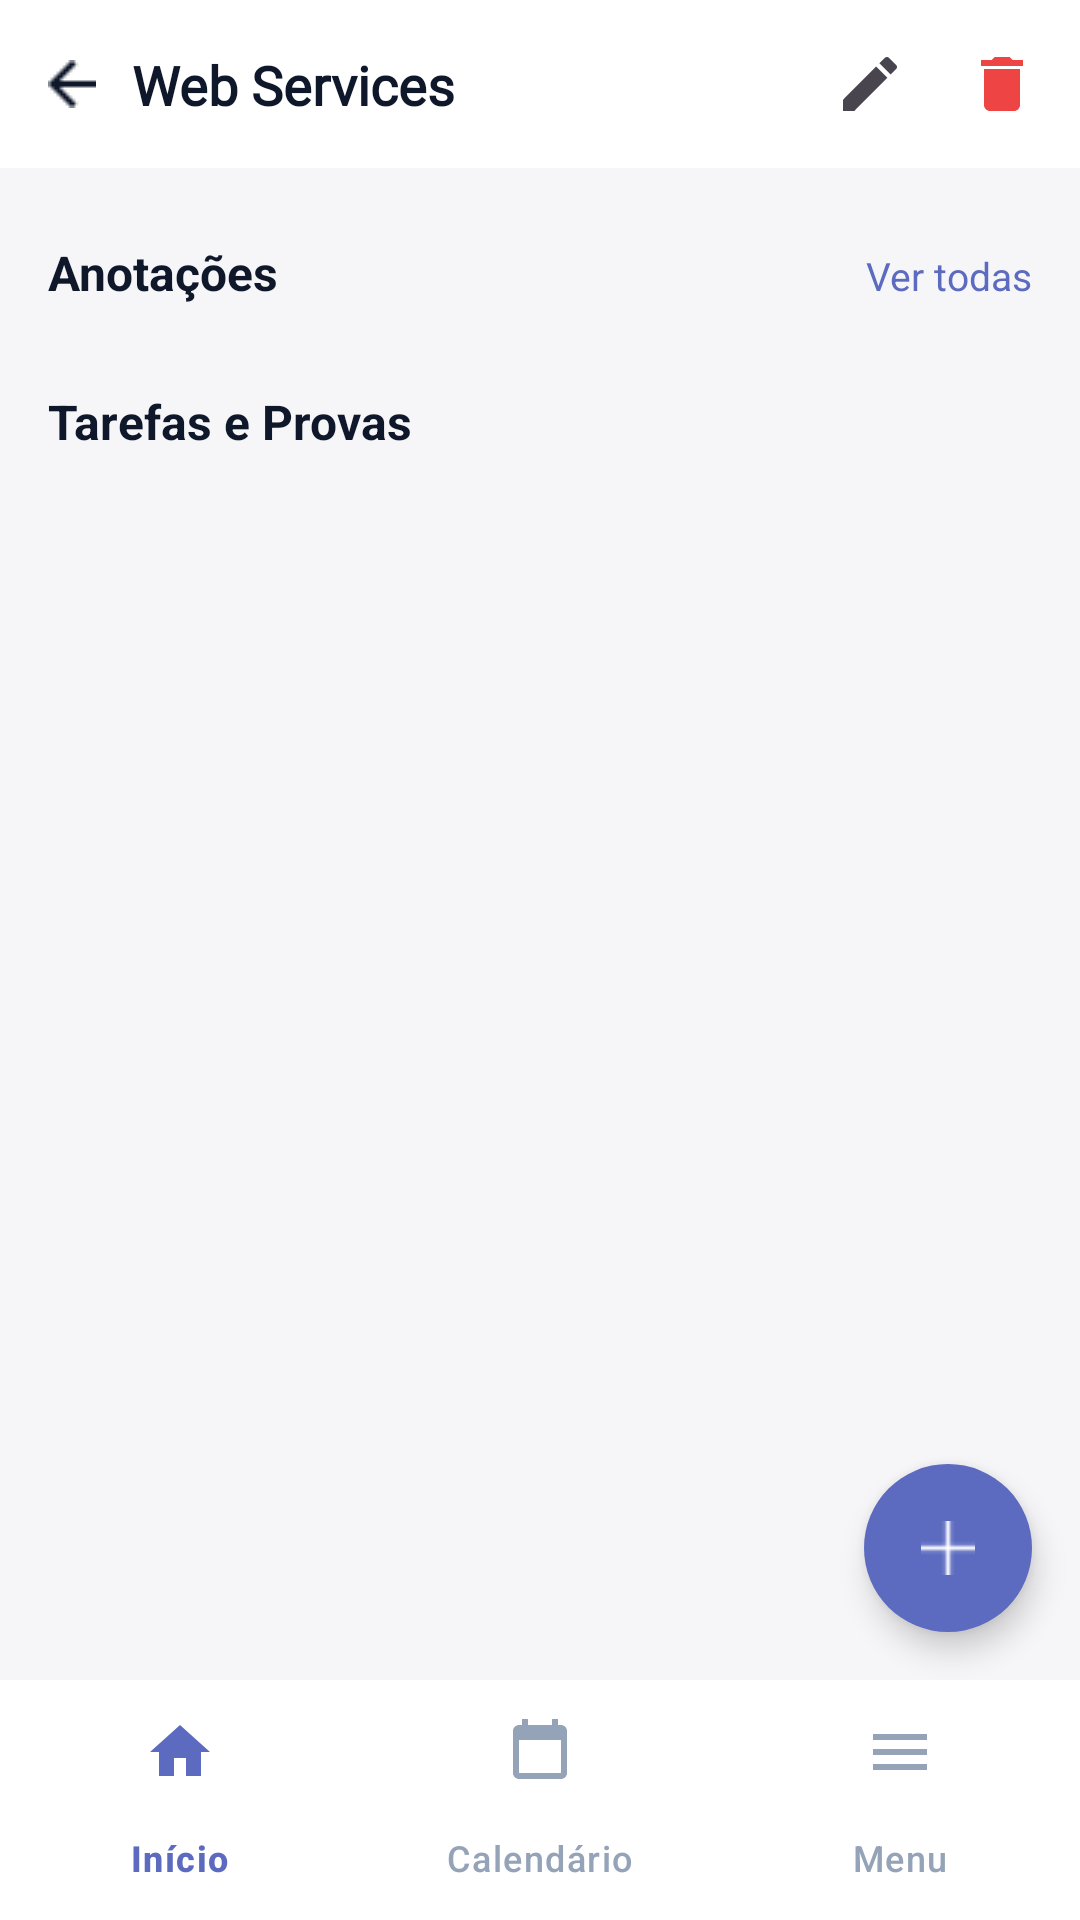

Where icons sit on this 1080px×1920px app screen, as (x1, y1, x2, y2):
add: (864, 1464, 1032, 1632)
Editar matéria: (843, 57, 897, 111)
Excluir matéria: (981, 57, 1023, 111)
Voltar: (48, 60, 96, 108)
